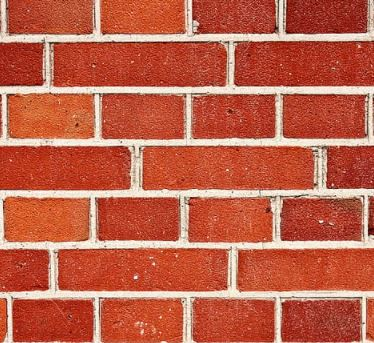brick: (52, 39, 232, 88), (140, 144, 317, 191), (57, 246, 234, 293), (232, 38, 374, 88), (1, 143, 135, 192), (235, 247, 374, 292), (185, 194, 278, 245), (1, 196, 94, 245), (4, 92, 98, 140), (191, 91, 278, 141), (99, 92, 189, 140), (94, 196, 182, 245), (96, 296, 189, 342), (8, 295, 97, 343), (279, 195, 366, 244), (281, 92, 369, 140), (277, 296, 364, 343), (189, 297, 278, 342), (4, 1, 97, 36), (100, 1, 189, 37), (192, 1, 280, 36), (284, 1, 369, 37), (1, 38, 49, 88), (1, 249, 52, 292), (325, 146, 374, 190)
